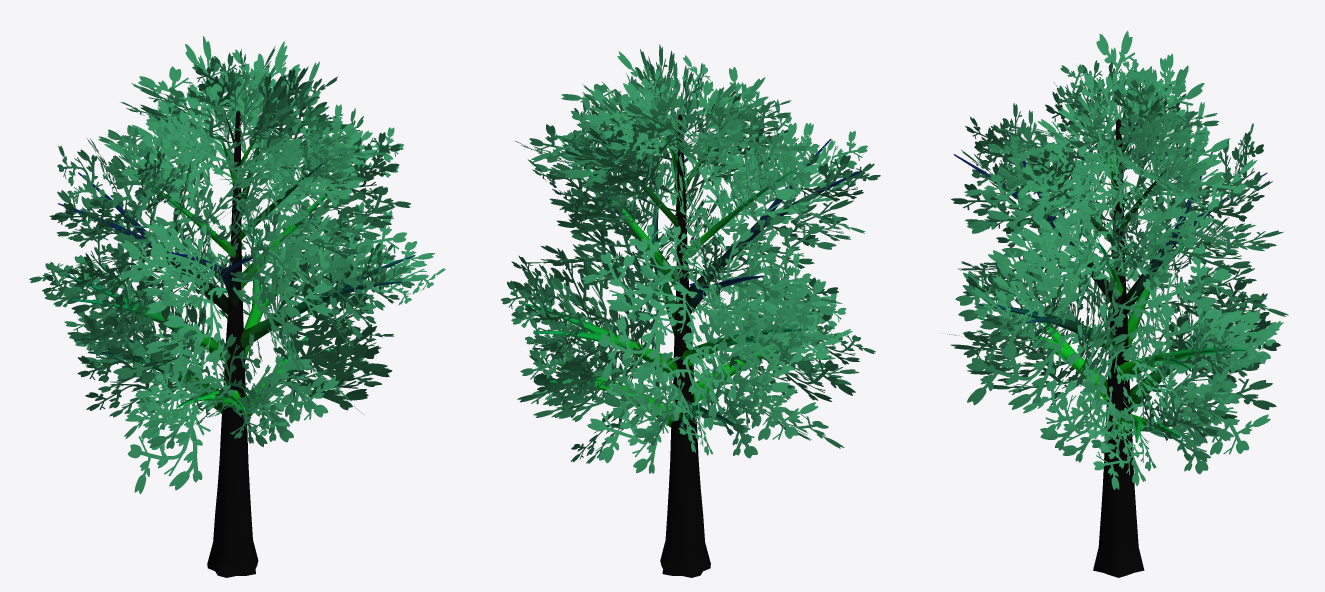
File: SM_DebugTree01.fbx
3 views of the same model, side by side, from view 1: azimuth 30°, elevation 25°; view 2: azimuth 150°, elevation 25°; view 3: azimuth 270°, elevation 25° (orthographic).
Parts seen in each view (by area): view 1: Tree_1, Tree_0; view 2: Tree_1, Tree_0; view 3: Tree_1, Tree_0.
Part boxes in pixels (<box>): Tree_1: <box>29,36,445,494</box>; Tree_0: <box>57,109,415,577</box>; Tree_1: <box>501,44,880,473</box>; Tree_0: <box>525,106,862,577</box>; Tree_1: <box>942,31,1288,489</box>; Tree_0: <box>953,105,1267,577</box>.
Size of the model in its own units: 193 by 279 by 191.
Materials: 1 (1 with a texture image).
